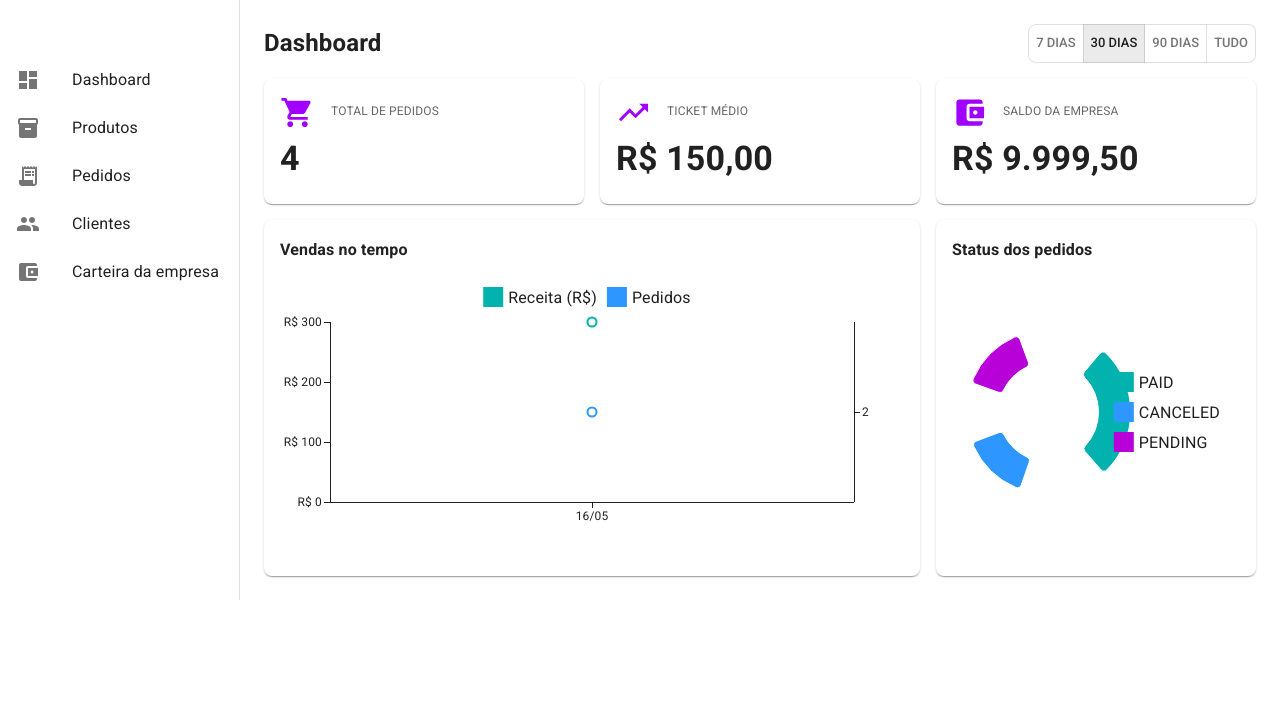
Test: AdminDashboard › filtro 7 dias reduz o conjunto
Expected: the heading "4" is shown, left=280, top=138, right=300, bottom=178
What coordinates should you click on to do the following:
click the button with aria-label "período 7 dias"
I would click on:
 (1056, 43)
Its box is left=1028, top=24, right=1084, bottom=63.
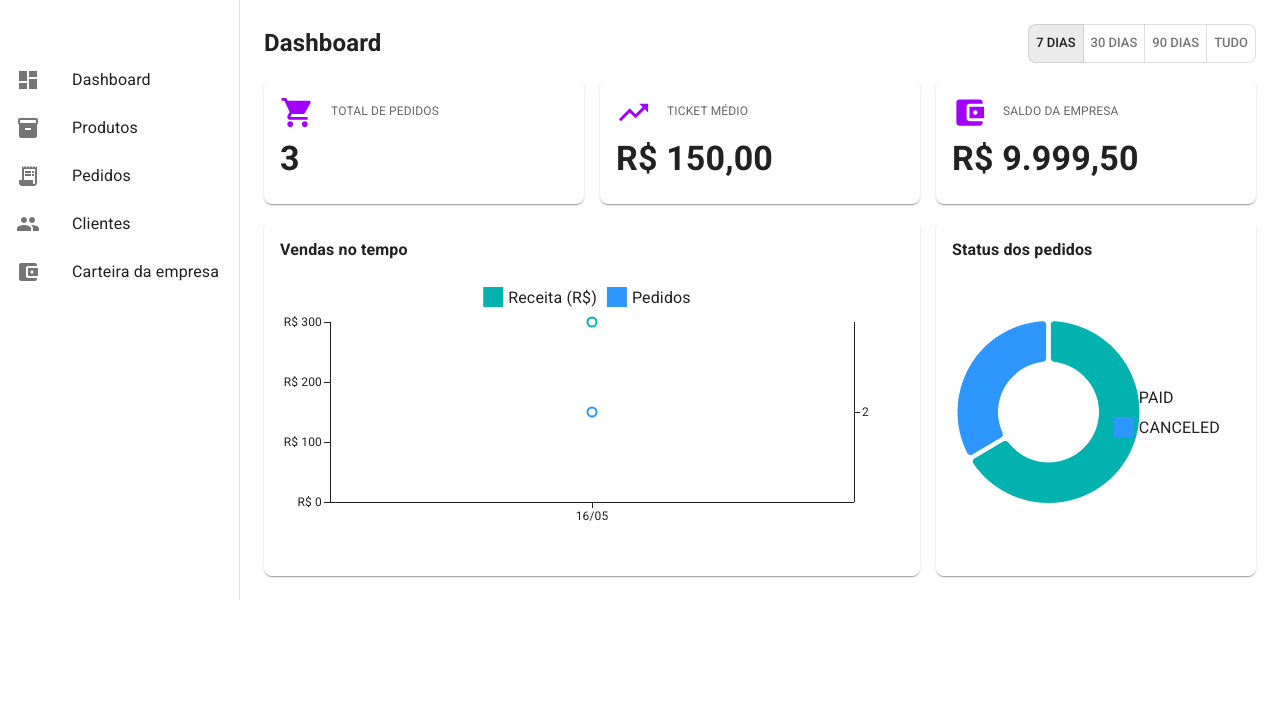
Now the heading "3" is shown, box left=280, top=138, right=300, bottom=178
